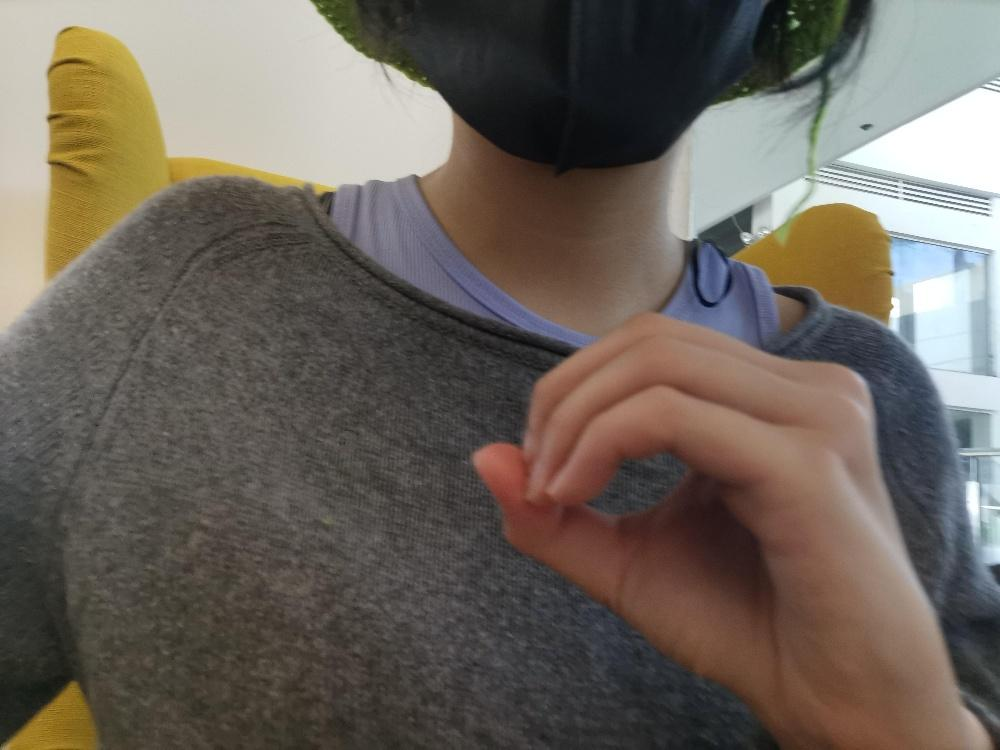o: (467, 307, 964, 749)
